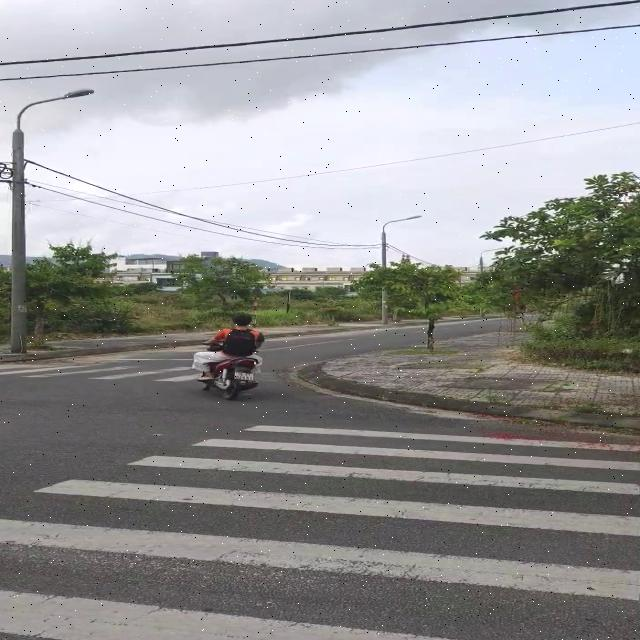no_helmet: (234, 313, 255, 333)
